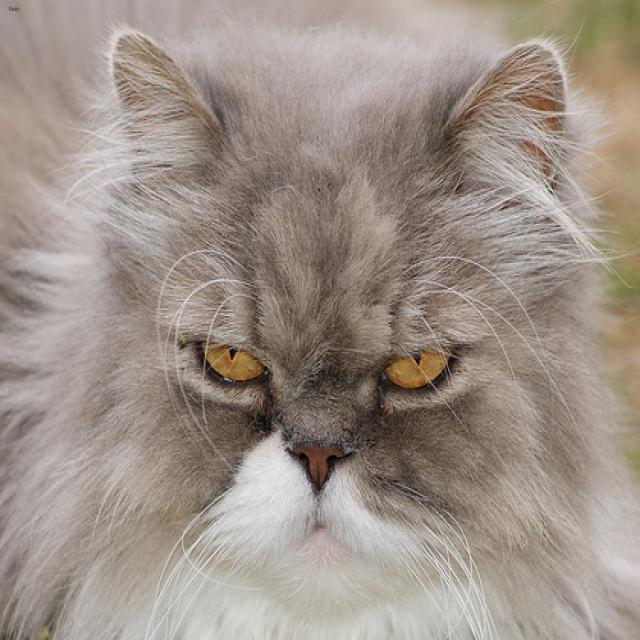Persian: (91, 24, 603, 610)
